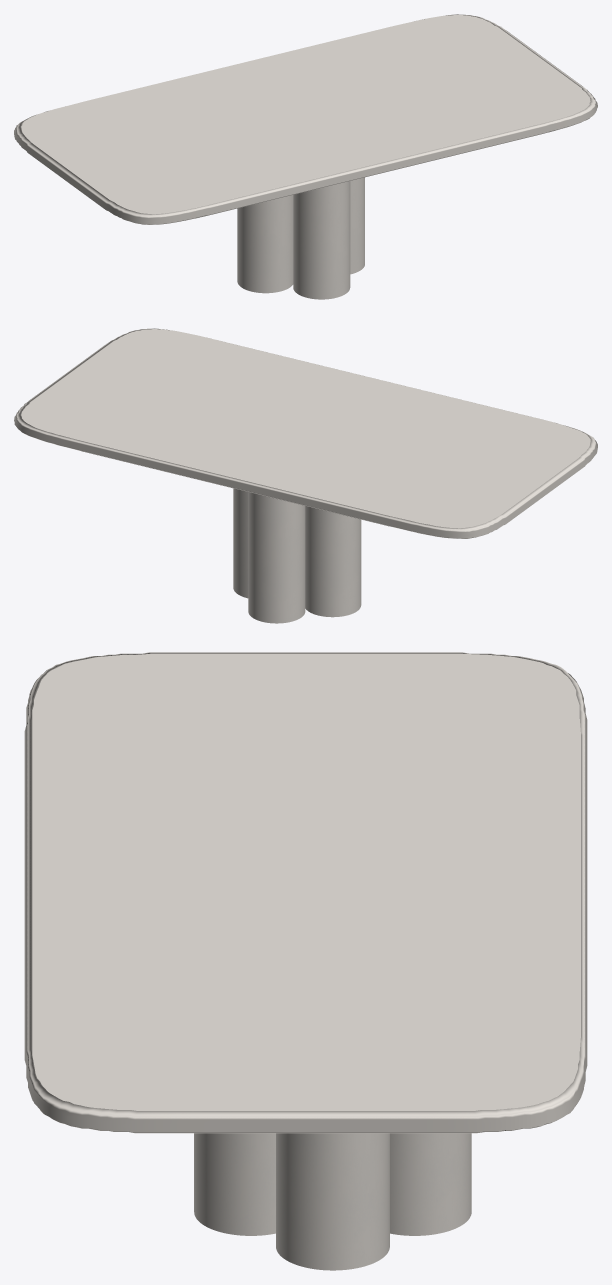
The model's file is pearlwhite_softrecta_round_secondtable.glb.
3 views of the same model, one above another, from view 1: azimuth 30°, elevation 25°; view 2: azimuth 150°, elevation 25°; view 3: azimuth 270°, elevation 25° (orthographic). The views are drawn at different scales.
Visible parts, largest first — view 1: round_softrecta, secondtable; view 2: round_softrecta, secondtable; view 3: round_softrecta, secondtable.
Part boxes in pixels (bbox=[...]): round_softrecta: bbox=[14, 14, 597, 224]; secondtable: bbox=[237, 177, 364, 299]; round_softrecta: bbox=[14, 328, 597, 538]; secondtable: bbox=[233, 488, 361, 623]; round_softrecta: bbox=[24, 652, 587, 1133]; secondtable: bbox=[194, 1133, 471, 1270].
Size of the model in its own units: 7.68 by 2.5 by 3.9.
1 material, 1 textured.
